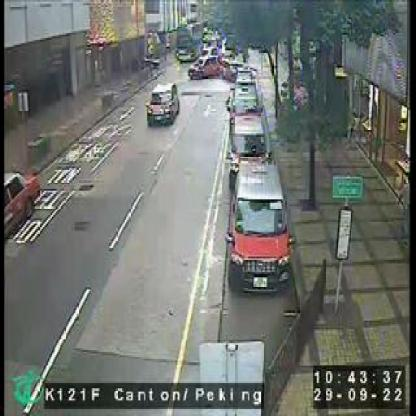Bus: (173, 14, 203, 62)
Car: (226, 165, 295, 305), (0, 166, 51, 238), (226, 107, 276, 170), (143, 71, 178, 130), (226, 76, 263, 120), (188, 48, 223, 82)
